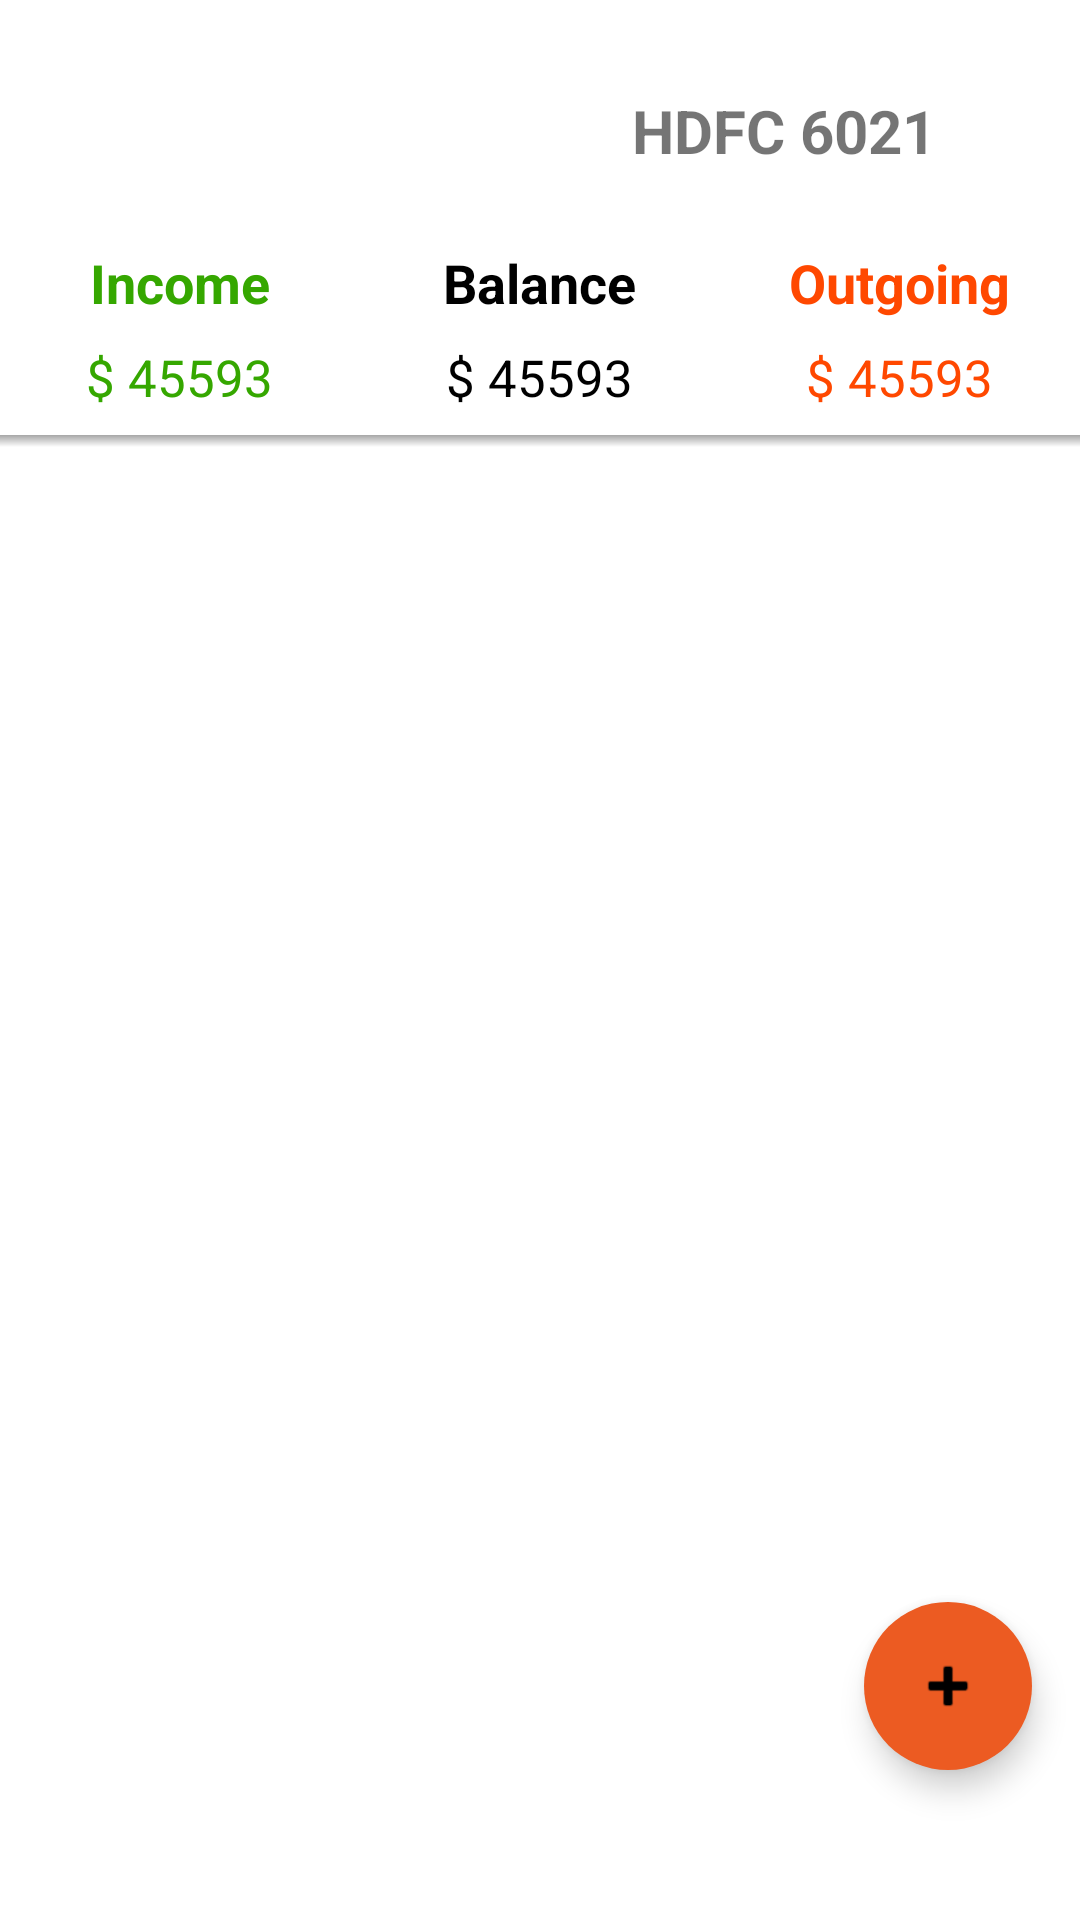

Screen size 1080x1920. Icon name, then its center in pixels as (x=x, y=y):
add: (x=948, y=1686)
